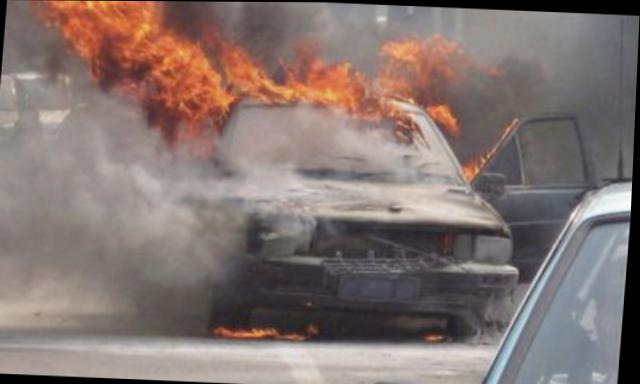fire: (19, 0, 507, 174), (214, 306, 324, 342), (419, 327, 450, 344)
